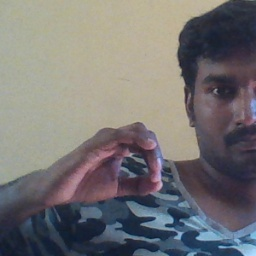O: (43, 120, 168, 212)
